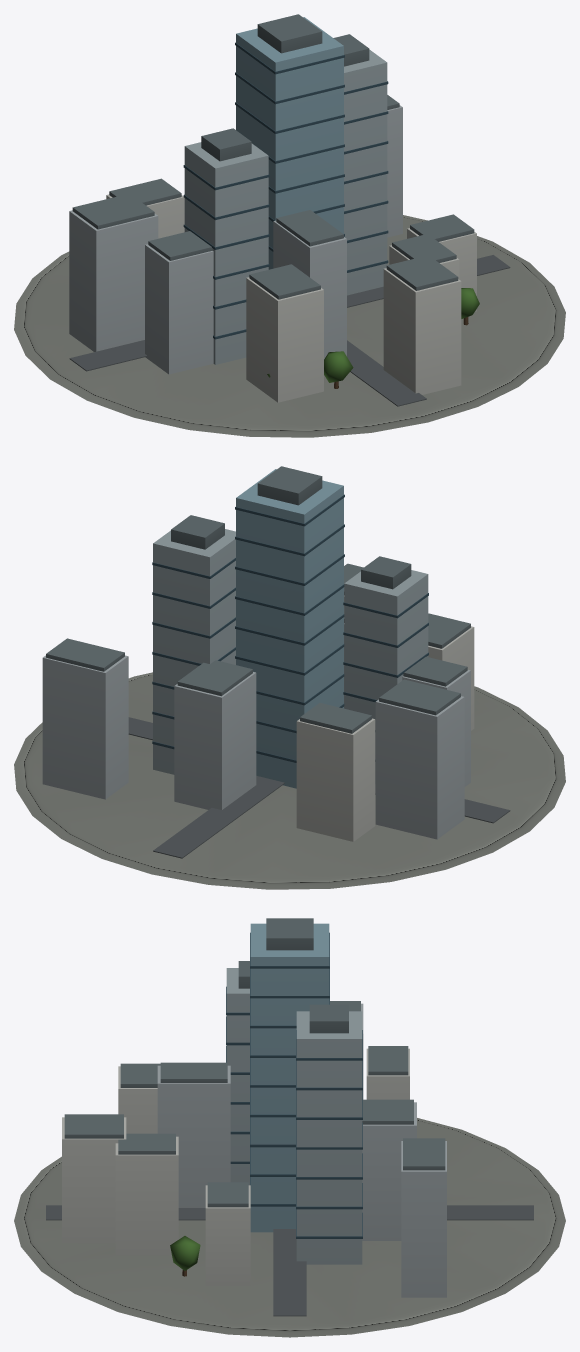
The model's file is settlement_3_6.glb.
3 renders of one model, top to bottom at view 1: azimuth 30°, elevation 25°; view 2: azimuth 150°, elevation 25°; view 3: azimuth 270°, elevation 25°, orthographic.
Visible parts, largest first — view 1: part_0; view 2: part_0; view 3: part_0.
Boxes of the visible parts, <box> form: part_0: <box>14,14,565,437</box>; part_0: <box>14,466,565,889</box>; part_0: <box>14,918,565,1337</box>.
Size of the model in its own units: 32.8 by 19.17 by 32.8.
